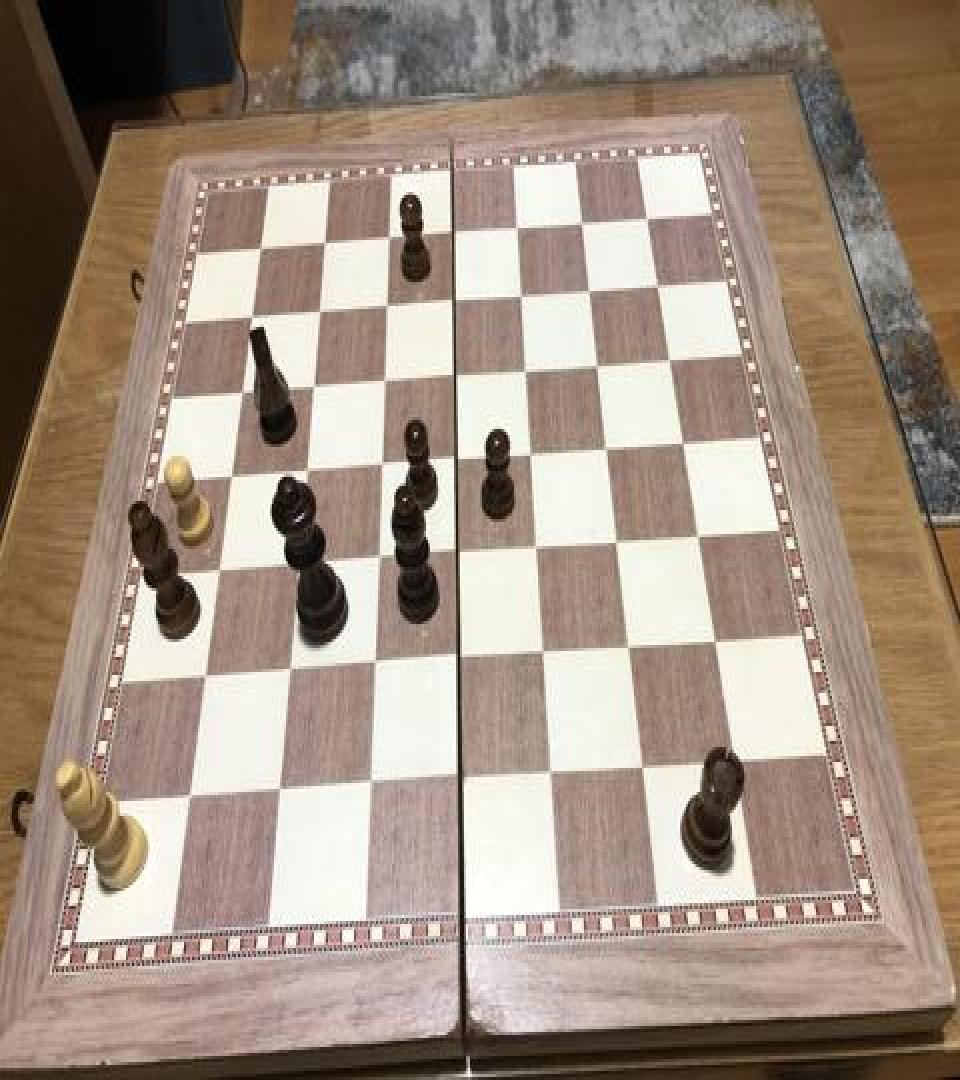xcorner: (533, 640, 557, 677), (447, 646, 471, 683), (362, 652, 386, 689), (724, 748, 748, 785), (632, 754, 656, 791), (639, 198, 663, 234), (573, 204, 597, 240), (508, 208, 532, 244), (442, 213, 466, 249), (377, 219, 401, 255), (311, 224, 335, 260), (246, 228, 270, 264), (650, 267, 674, 303), (581, 273, 605, 309), (512, 278, 536, 314), (443, 284, 467, 320), (374, 288, 398, 324), (306, 294, 330, 330), (237, 298, 261, 334), (589, 350, 613, 386), (516, 354, 540, 390), (444, 360, 468, 396), (372, 364, 396, 400), (300, 370, 324, 406), (228, 376, 252, 412), (674, 428, 698, 464), (598, 434, 622, 470), (521, 440, 545, 476), (369, 450, 393, 486), (293, 456, 317, 492), (217, 462, 241, 498), (689, 522, 713, 558), (608, 528, 632, 564), (527, 534, 551, 570), (446, 540, 470, 576), (366, 546, 390, 582), (285, 552, 309, 588), (205, 558, 229, 594), (705, 628, 729, 664), (619, 634, 643, 670), (277, 658, 301, 694), (192, 664, 216, 700), (540, 760, 564, 796), (449, 768, 473, 804), (358, 774, 382, 810), (267, 780, 291, 816), (177, 786, 201, 822), (661, 344, 685, 379), (445, 446, 469, 481)
